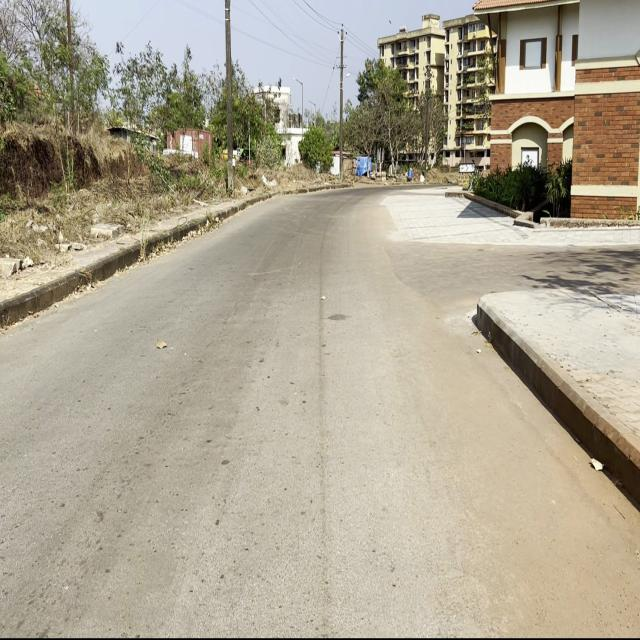Road: (1, 186, 640, 638)
